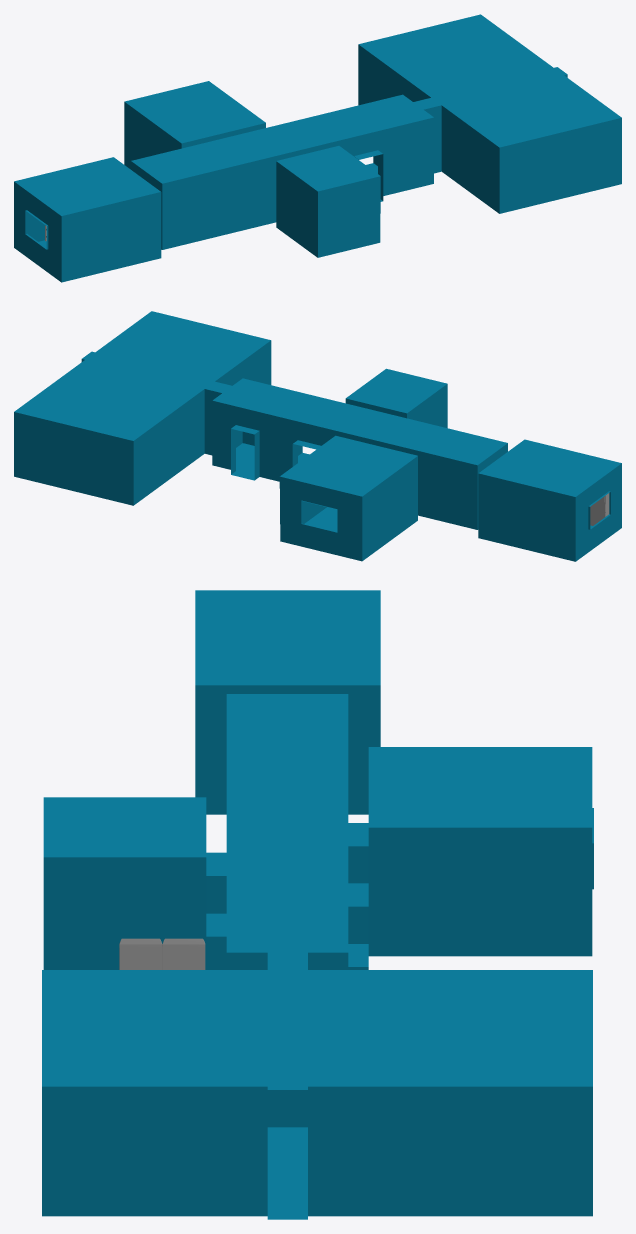
Rendered from dormRoom_Scalex3.fbx.
3 views of the same model, one above another, from view 1: azimuth 30°, elevation 25°; view 2: azimuth 150°, elevation 25°; view 3: azimuth 270°, elevation 25° (orthographic). The views are drawn at different scales.
Parts seen in each view (by area): view 1: dormRoom_WITH_Roof; view 2: dormRoom_WITH_Roof; view 3: dormRoom_WITH_Roof, WasherDryer_02:washerUnit, WasherDryer_02:DryerUnit.
Boxes of the visible parts, x1,y1,x2,y2 form: dormRoom_WITH_Roof: (14, 14, 621, 282); dormRoom_WITH_Roof: (14, 311, 621, 561); dormRoom_WITH_Roof: (42, 590, 593, 1219); WasherDryer_02:washerUnit: (162, 938, 205, 969); WasherDryer_02:DryerUnit: (119, 938, 162, 969).
Bounding box in the file's own units: 11608 × 1403 × 5398.
